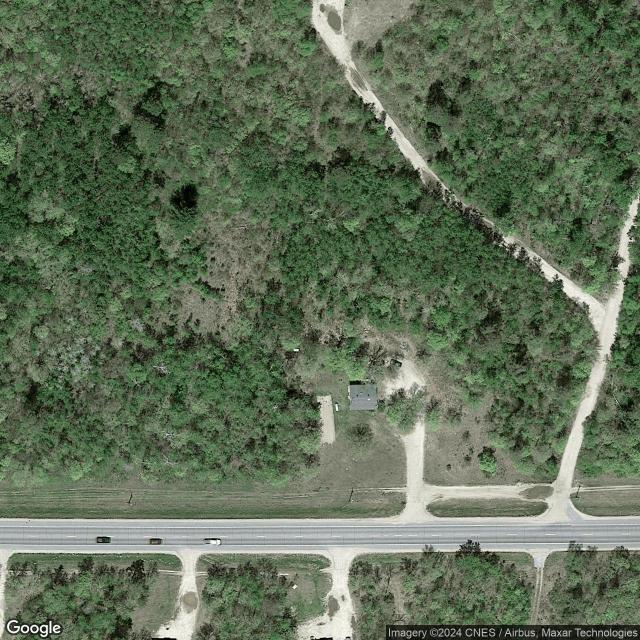Propane: (334, 402, 339, 412)
